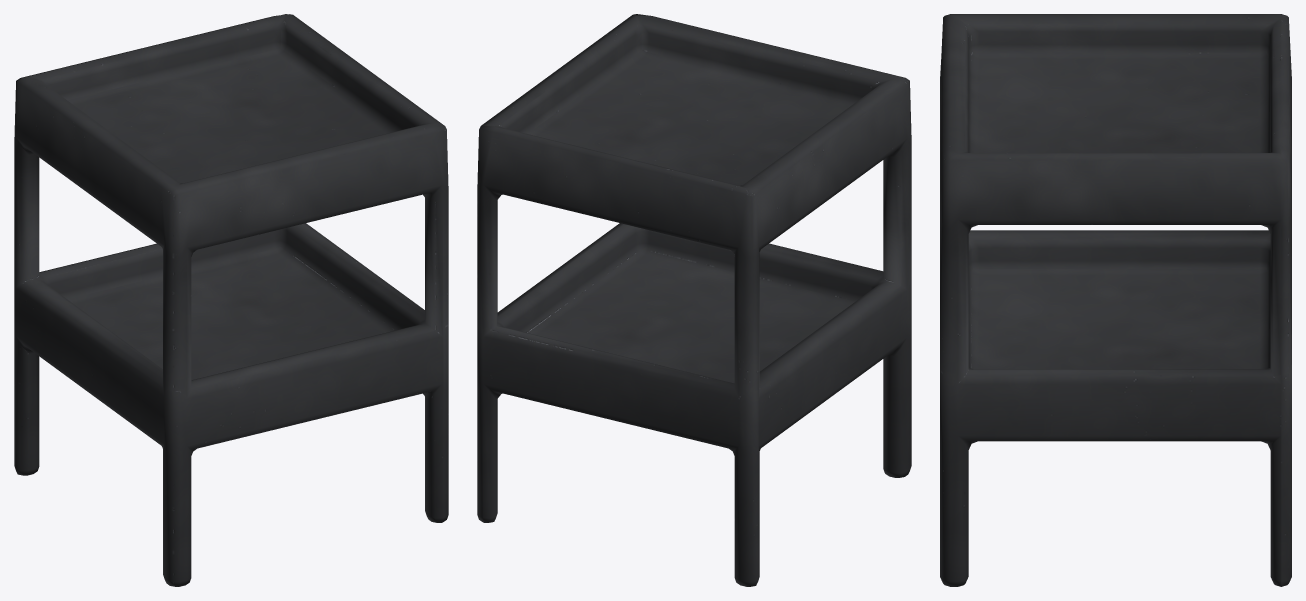
File: Shelf4.fbx
3 renders of one model, left to right at view 1: azimuth 30°, elevation 25°; view 2: azimuth 150°, elevation 25°; view 3: azimuth 270°, elevation 25°, orthographic. The views are drawn at different scales.
Parts seen in each view (by area): view 1: Shelf4; view 2: Shelf4; view 3: Shelf4.
Part boxes in pixels (x1=…): Shelf4: x1=14, y1=14, x2=448, y2=586; Shelf4: x1=477, y1=14, x2=911, y2=586; Shelf4: x1=940, y1=14, x2=1291, y2=586.
Size of the model in its own units: 200 by 271 by 200.
